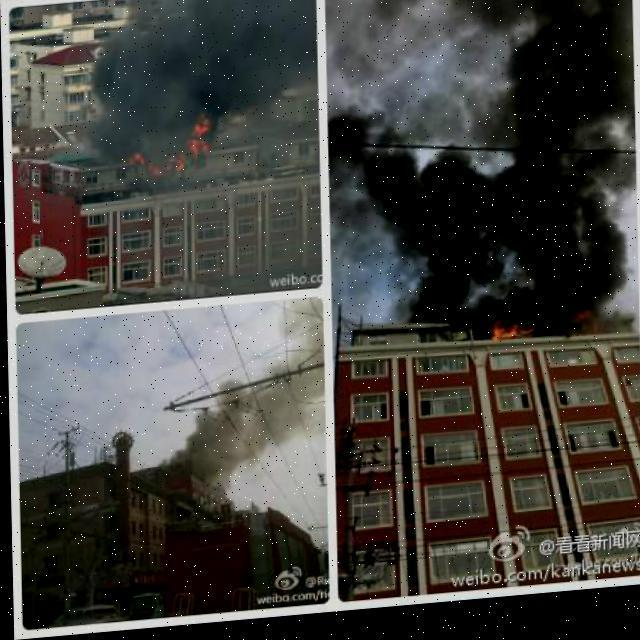Fire: (125, 115, 212, 185), (489, 302, 590, 356)
